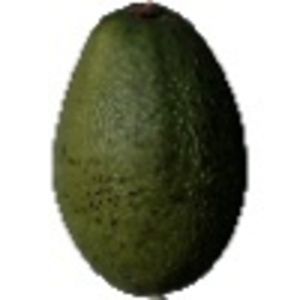abacate: (48, 1, 251, 295)
